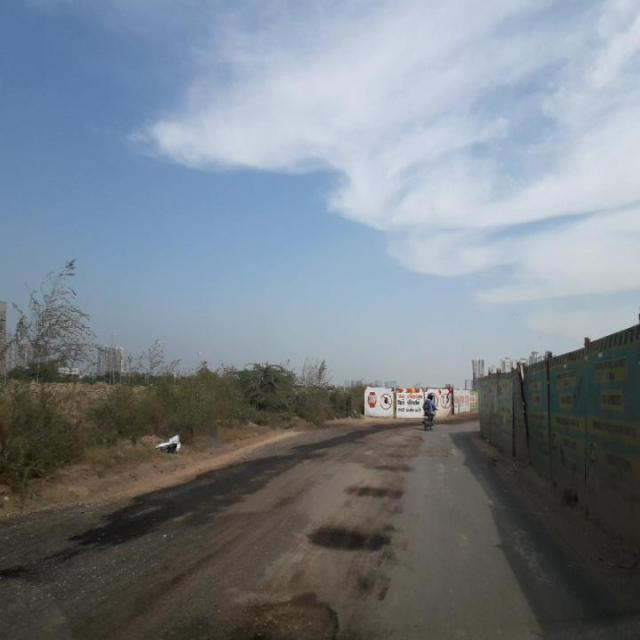Pothole: (321, 493, 382, 562), (261, 581, 332, 640), (360, 472, 401, 504), (368, 442, 408, 473)
